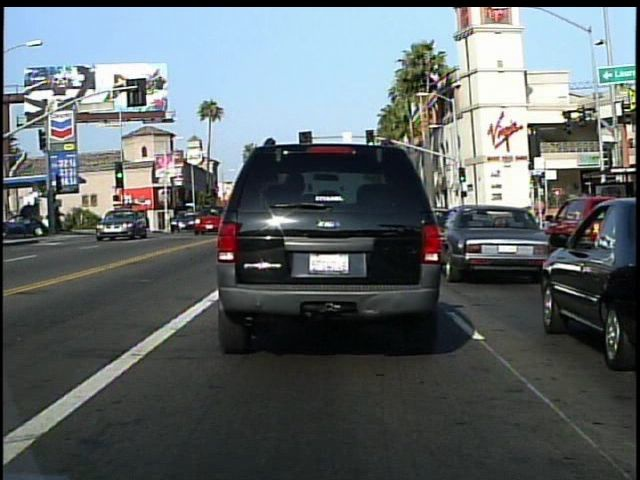person: (15, 201, 38, 240)
